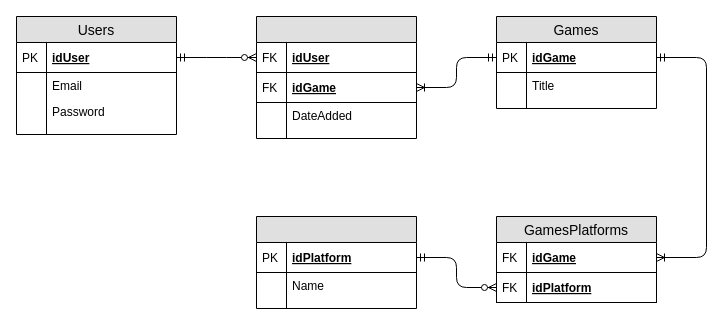
This 723x325 diagram has some shape labels left out. Here are the shapes that lost their labels. From the top down, the box of each, then its label:
(256, 16, 416, 138): Library
(256, 216, 416, 308): Platforms
